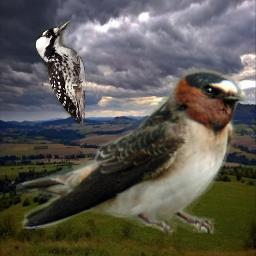Swallow: (16, 64, 252, 238)
Woodpecker: (33, 19, 85, 124)
